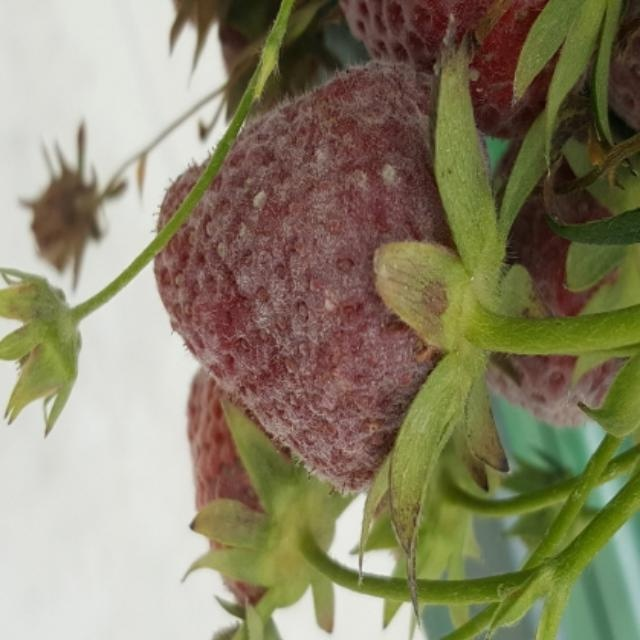Powdery Mildew Fruit: (152, 22, 496, 500), (482, 99, 628, 423), (333, 0, 616, 136)
